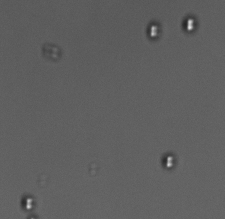Dead Cell: (42, 42, 63, 60)
Living Cell: (21, 193, 38, 211), (161, 152, 178, 169), (182, 16, 198, 34), (146, 21, 160, 39)
